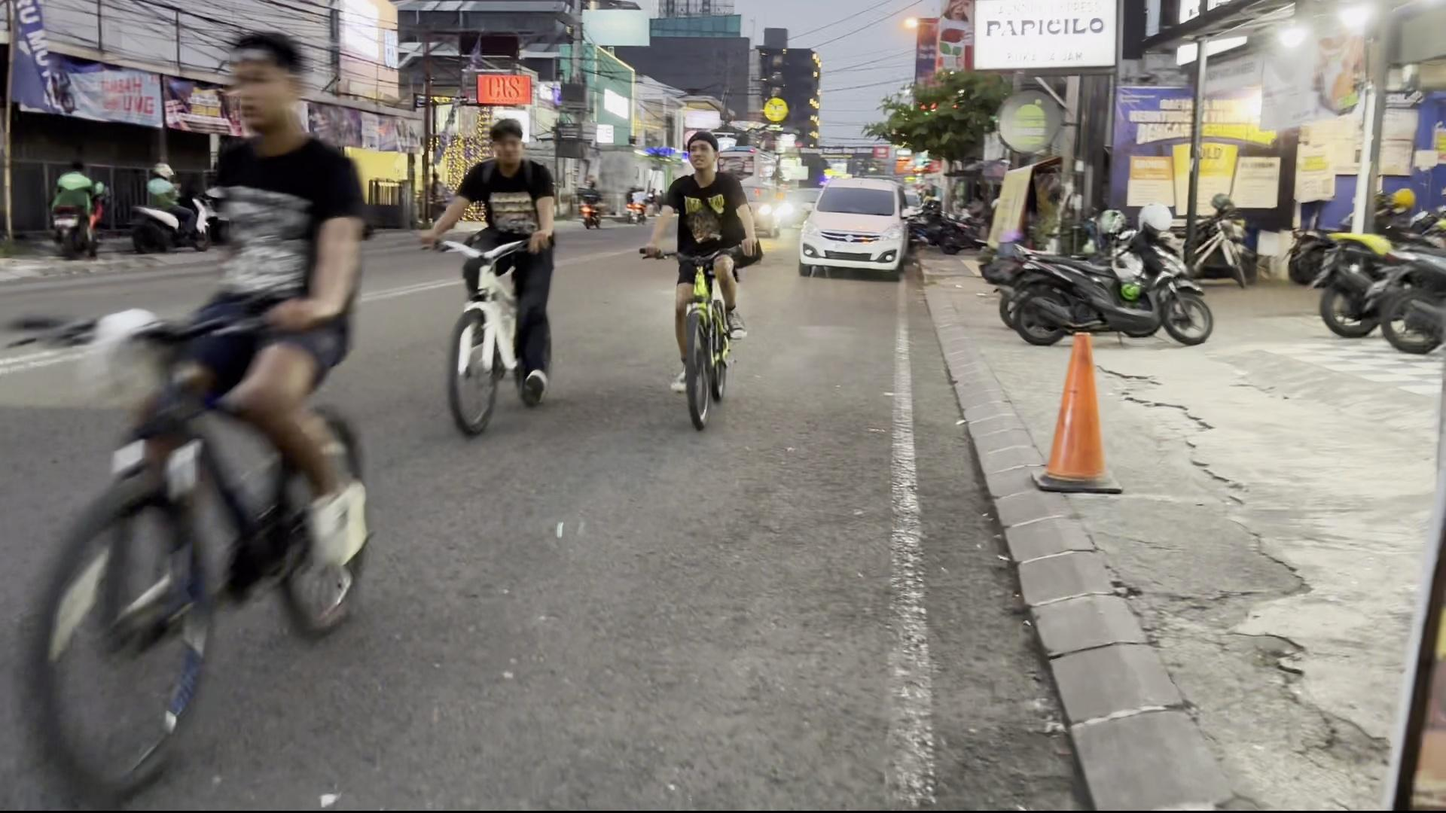nohelm: (687, 130, 722, 180)
riding: (627, 122, 766, 442)
